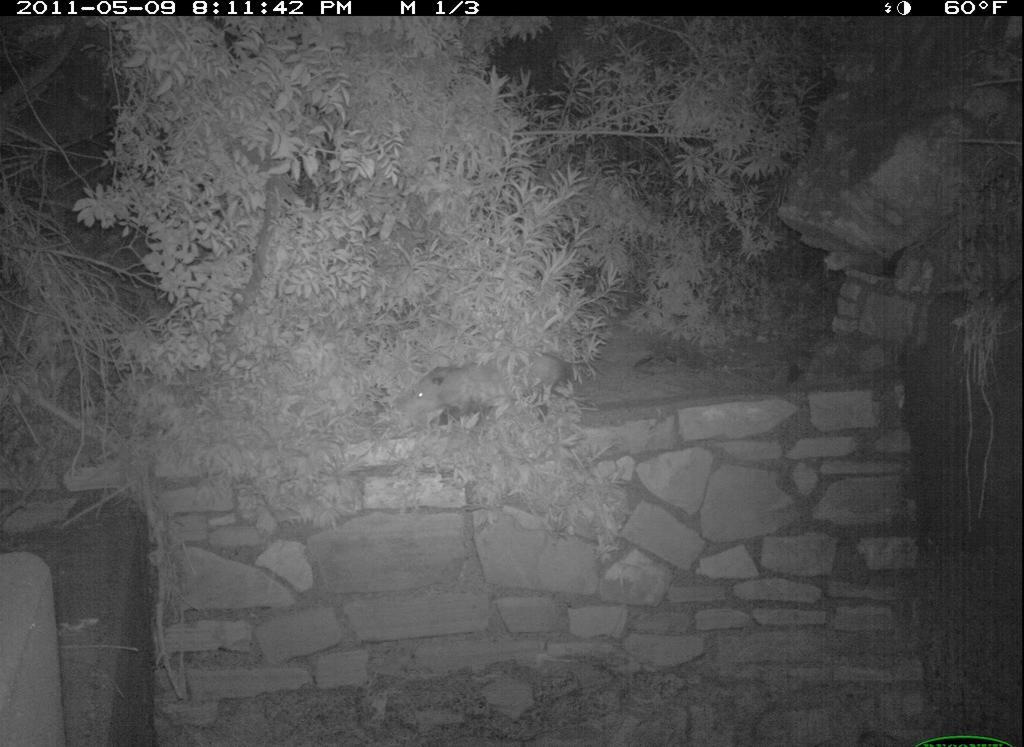opossum: (388, 349, 591, 436)
